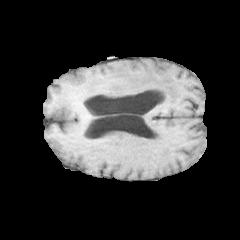glioma: (56, 65, 185, 118)
